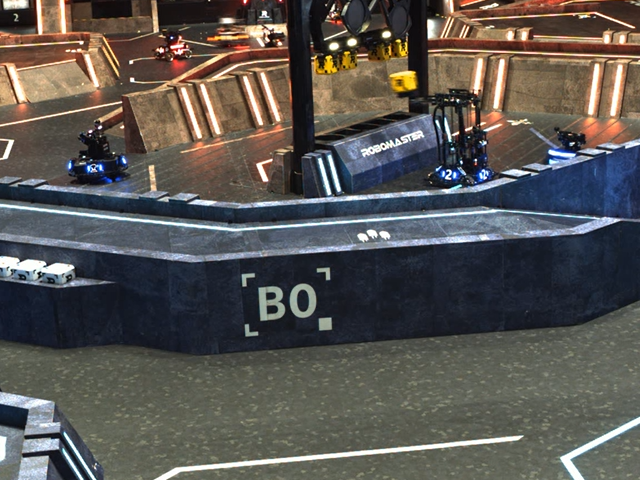rm: (428, 86, 493, 189), (73, 131, 127, 185), (155, 29, 191, 60), (553, 125, 586, 158), (213, 23, 248, 45), (263, 26, 287, 48)
